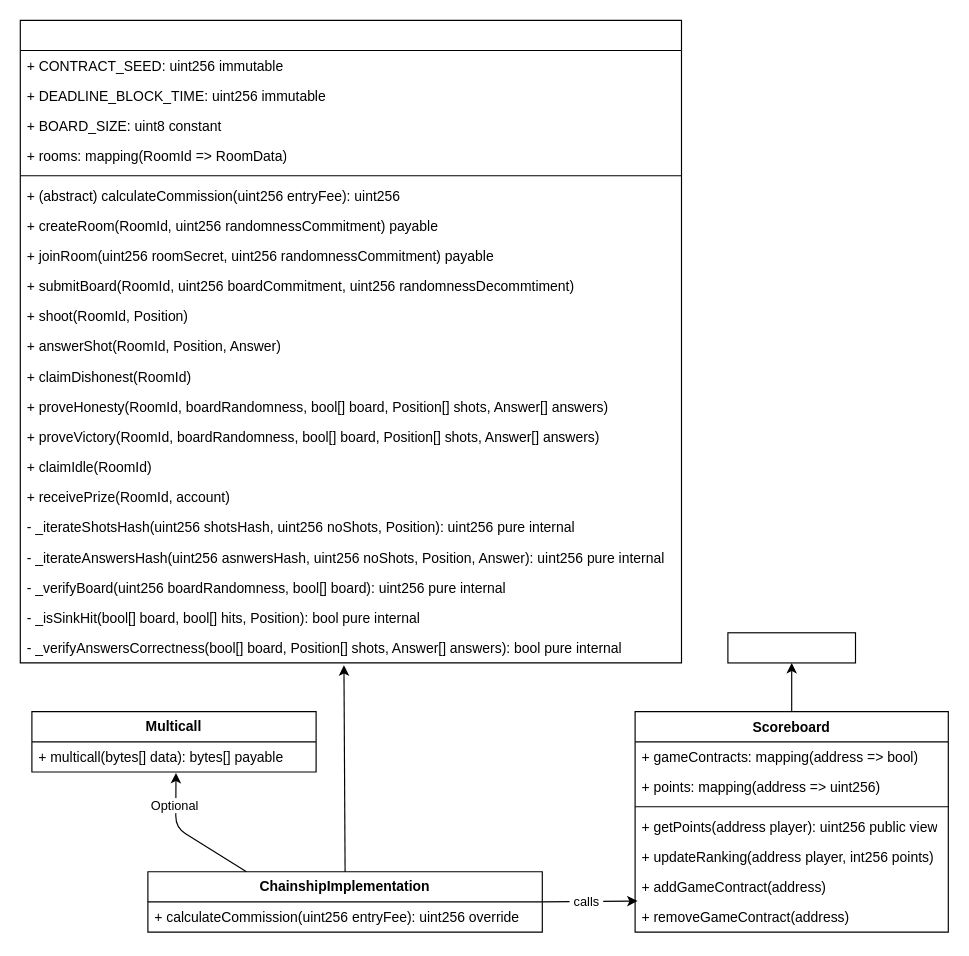
This 969x956 diagram has some shape labels left out. The shapes that lost their labels are listed below. From the top down, each one's box as (x1, y1, x2, y2) in pixels, then its label:
(19, 19, 682, 663): (Abstract) Chainship
(727, 632, 855, 663): Ownable
